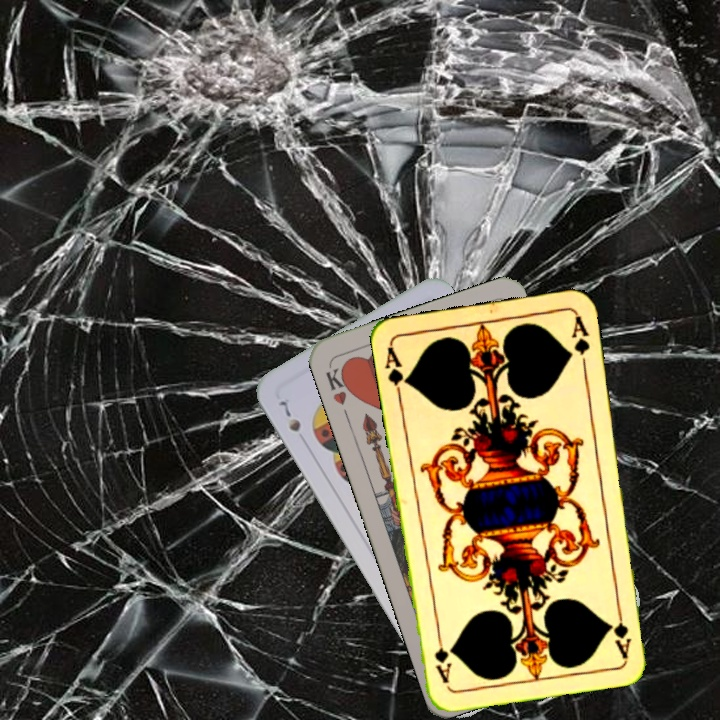GA: (381, 342, 412, 401), (610, 600, 634, 660)
HK: (322, 361, 356, 408)
S7: (273, 393, 304, 435)
